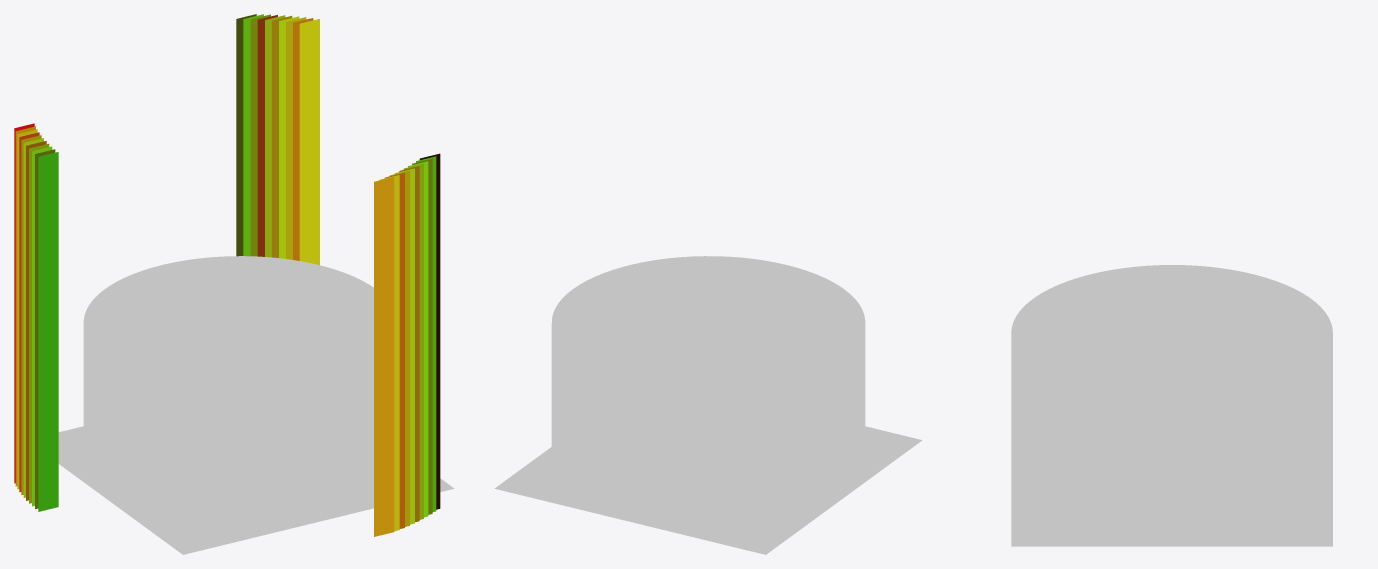
The model's file is UpgradeEnergy.gltf.
3 renders of one model, left to right at view 1: azimuth 30°, elevation 25°; view 2: azimuth 150°, elevation 25°; view 3: azimuth 270°, elevation 25°, orthographic. The views are drawn at different scales.
Visible parts, largest first — view 1: Sparkles, Cylinder, Ground; view 2: Cylinder, Ground; view 3: Cylinder, Ground.
Part boxes in pixels (<box>): Sparkles: <box>14,14,440,536</box>; Cylinder: <box>83,256,373,461</box>; Ground: <box>58,398,454,554</box>; Cylinder: <box>551,256,865,464</box>; Ground: <box>494,398,922,554</box>; Cylinder: <box>1011,265,1332,476</box>; Ground: <box>1011,410,1332,546</box>.
Size of the model in its own units: 2.6 by 2.5 by 2.57.
